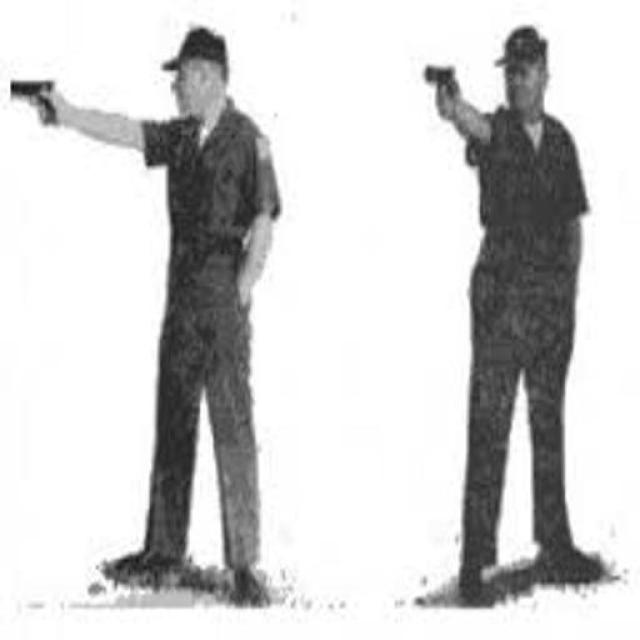pistol: (7, 74, 61, 138), (421, 60, 466, 112)
